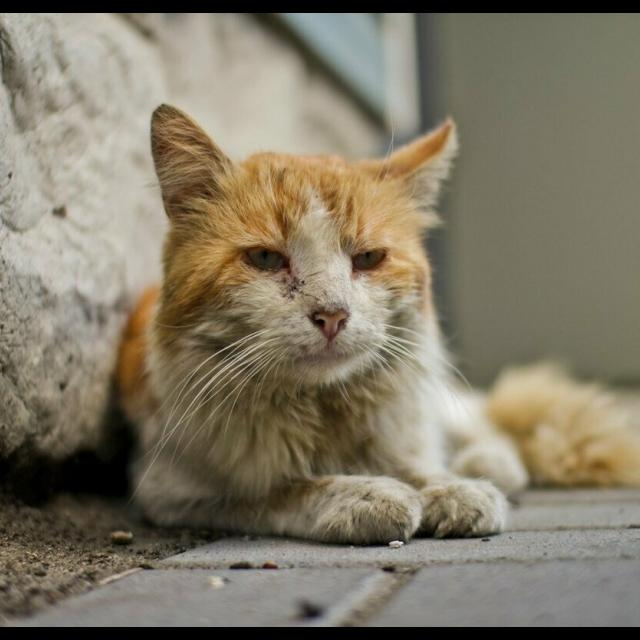animals: (111, 99, 640, 544)
